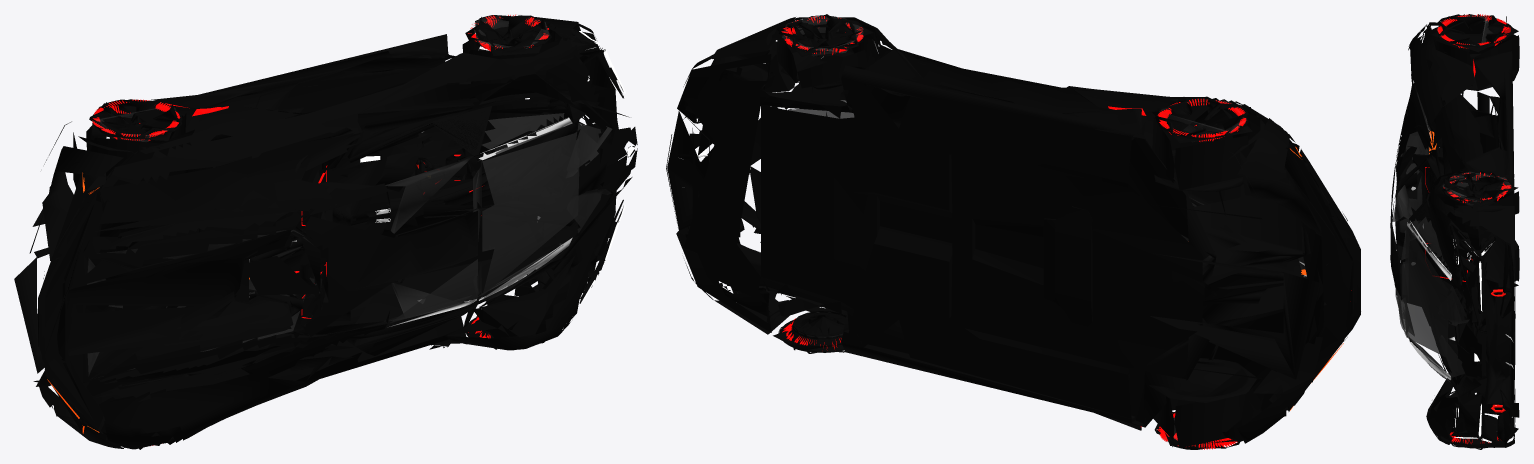
Rendered from lamborghini-ferzor.lod.glb.
3 renders of one model, left to right at view 1: azimuth 30°, elevation 25°; view 2: azimuth 150°, elevation 25°; view 3: azimuth 270°, elevation 25°, orthographic. The views are drawn at different scales.
Visible parts, largest first — view 1: terzo_wire_000000000_0001, Terzo_wire_000000000_0, Terzo_glass wheel_0, BKL, Terzo_redlight_0, Terzo_metal_0, FTR; view 2: terzo_wire_000000000_0001, Terzo_wire_000000000_0, BKL, FTR; view 3: terzo_wire_000000000_0001, Terzo_wire_000000000_0, BKL, Terzo_glass wheel_0, FTR, Terzo_redlight_0, Terzo_metal_0.
Part boxes in pixels (x1,y1,x2,y2): terzo_wire_000000000_0001: (29,18,637,439); Terzo_wire_000000000_0: (14,15,623,449); Terzo_glass wheel_0: (108,113,612,323); BKL: (86,15,555,449); Terzo_redlight_0: (47,31,634,433); Terzo_metal_0: (249,117,595,326); FTR: (92,14,548,446); terzo_wire_000000000_0001: (676,17,1347,430); Terzo_wire_000000000_0: (666,17,1360,443); BKL: (773,14,1256,449); FTR: (781,16,1246,449); terzo_wire_000000000_0001: (1390,14,1515,446); Terzo_wire_000000000_0: (1395,49,1515,447); BKL: (1428,14,1519,449); Terzo_glass wheel_0: (1392,116,1469,382); FTR: (1437,14,1511,443); Terzo_redlight_0: (1425,59,1505,442); Terzo_metal_0: (1403,186,1513,379).
Bounding box in the file's own units: 6.4 × 3.05 × 1.37.
